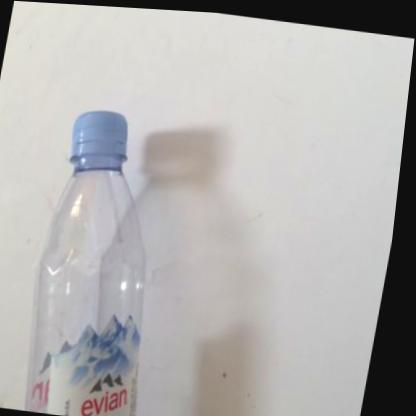Plastic: (35, 112, 151, 416)
